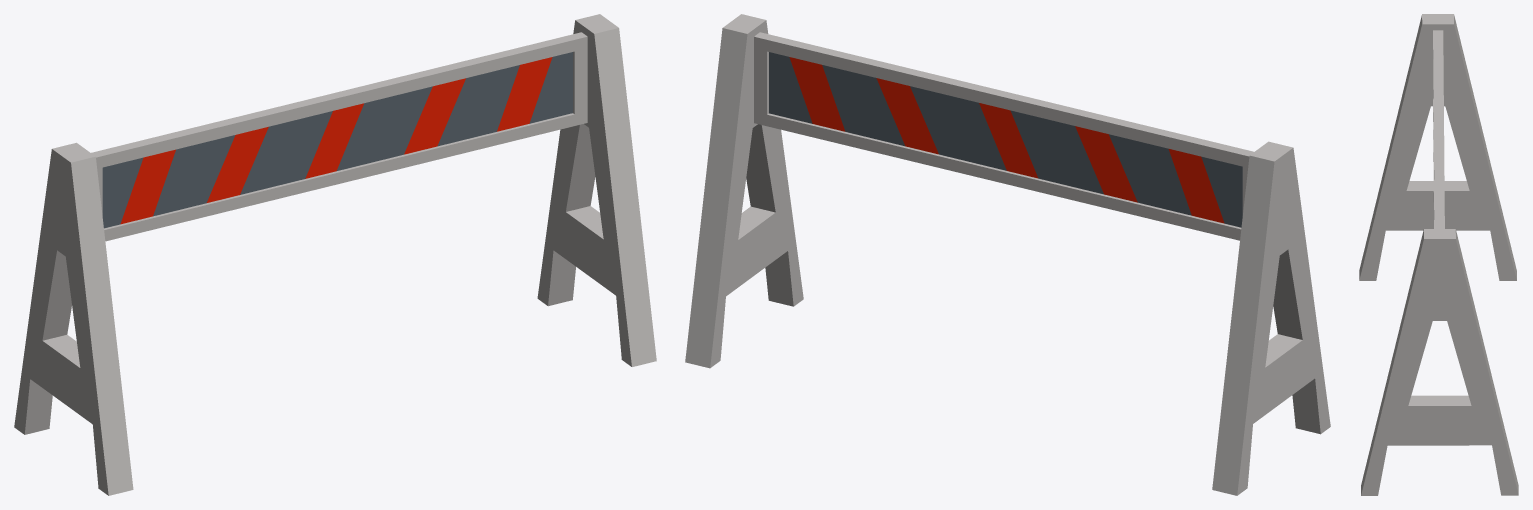
The model's file is TrafficBarrier_3.fbx.
The picture shows the model from 3 angles, left to right: view 1: azimuth 30°, elevation 25°; view 2: azimuth 150°, elevation 25°; view 3: azimuth 270°, elevation 25°; orthographic projection. The views are drawn at different scales.
Parts seen in each view (by area): view 1: TrafficBarrier_3; view 2: TrafficBarrier_3; view 3: TrafficBarrier_3.
Boxes of the visible parts, x1,y1,x2,y2 form: TrafficBarrier_3: (14, 14, 656, 495); TrafficBarrier_3: (685, 14, 1330, 495); TrafficBarrier_3: (1359, 14, 1518, 495).
Size of the model in its own units: 141 by 74.83 by 42.16.
